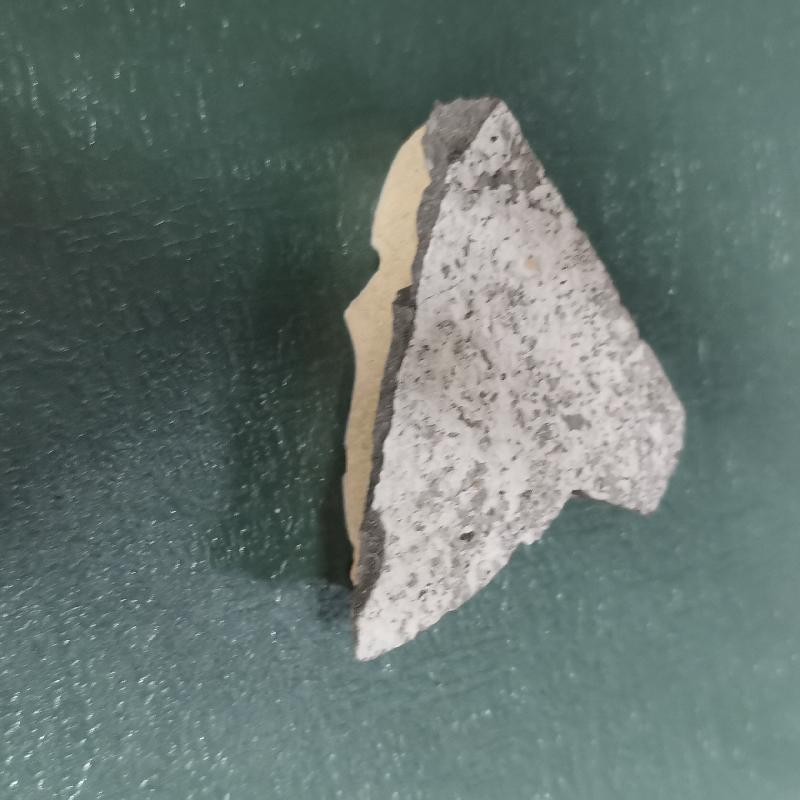tile: (314, 94, 696, 658)
